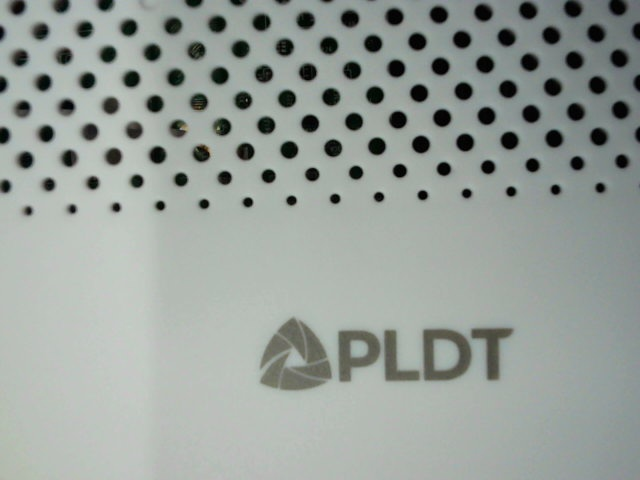BH_PLDT: (237, 297, 522, 414)
